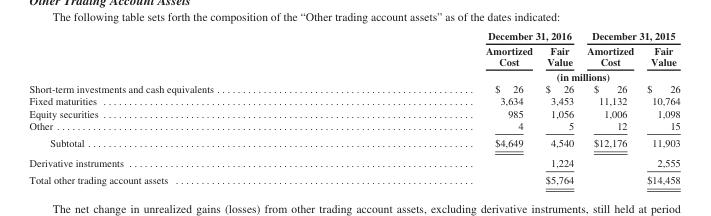table: (28, 29, 679, 185)
table column: (28, 29, 349, 185), (349, 29, 538, 185), (579, 29, 639, 185), (538, 29, 579, 185), (639, 29, 679, 185)
table column header: (28, 29, 679, 82)
table row: (28, 42, 679, 68), (28, 133, 679, 152), (28, 152, 679, 171), (28, 68, 679, 82), (28, 119, 679, 133), (28, 171, 679, 185), (28, 29, 679, 42), (28, 106, 679, 119), (28, 82, 679, 94), (28, 94, 679, 106)
table spanning cell: (349, 68, 679, 82), (349, 29, 579, 42), (579, 29, 679, 42)
